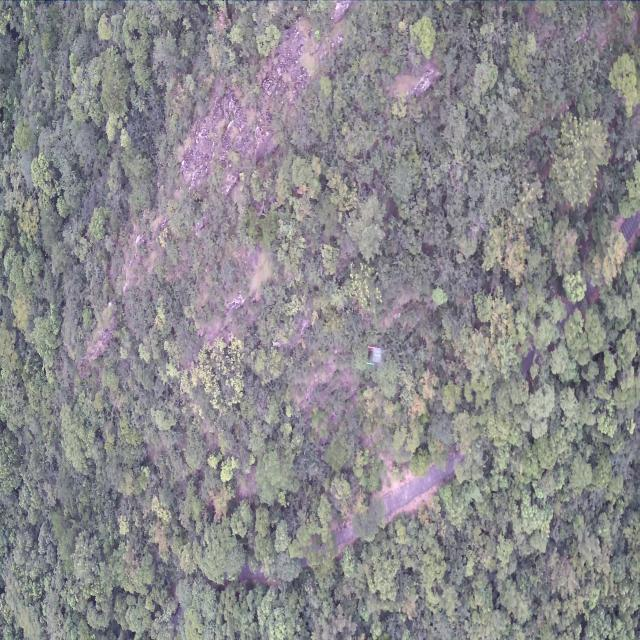UAV: (365, 346, 387, 368)
